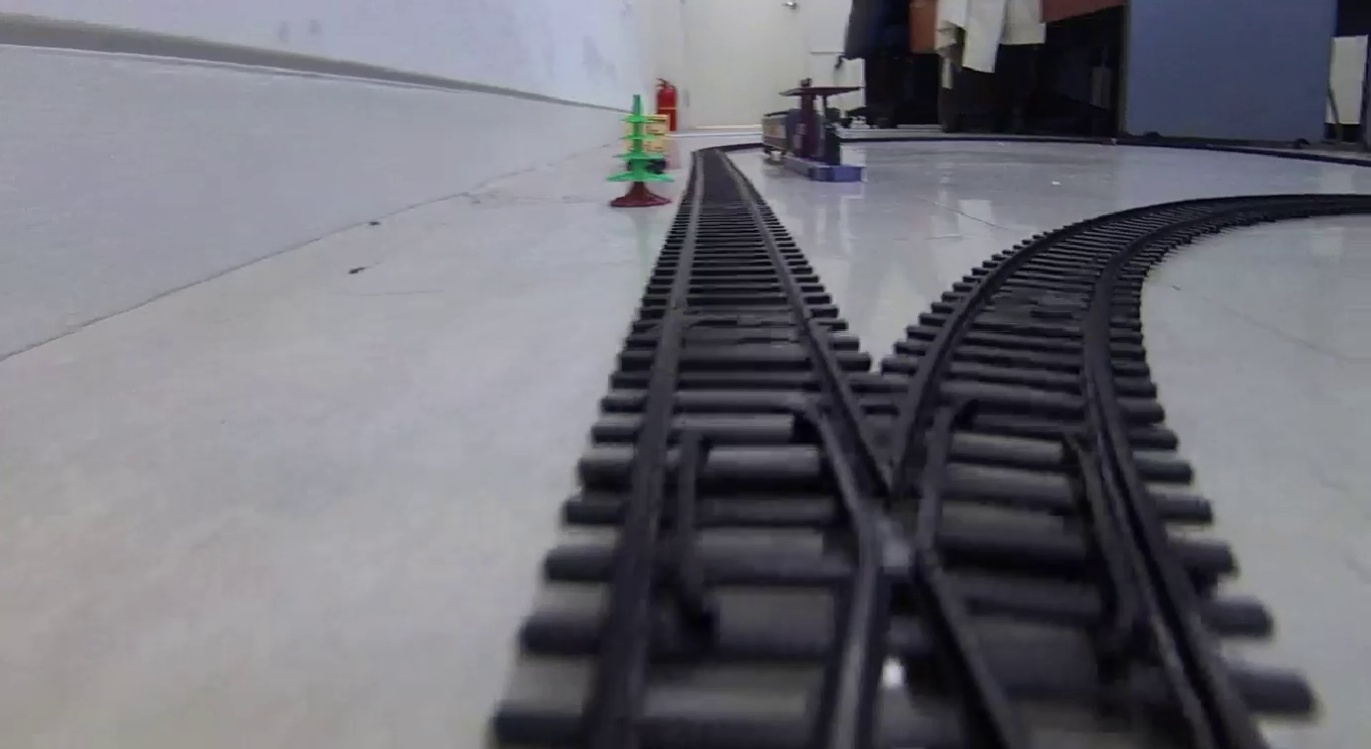tree: (602, 94, 675, 209)
